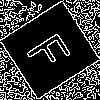F: (24, 25, 79, 76)
